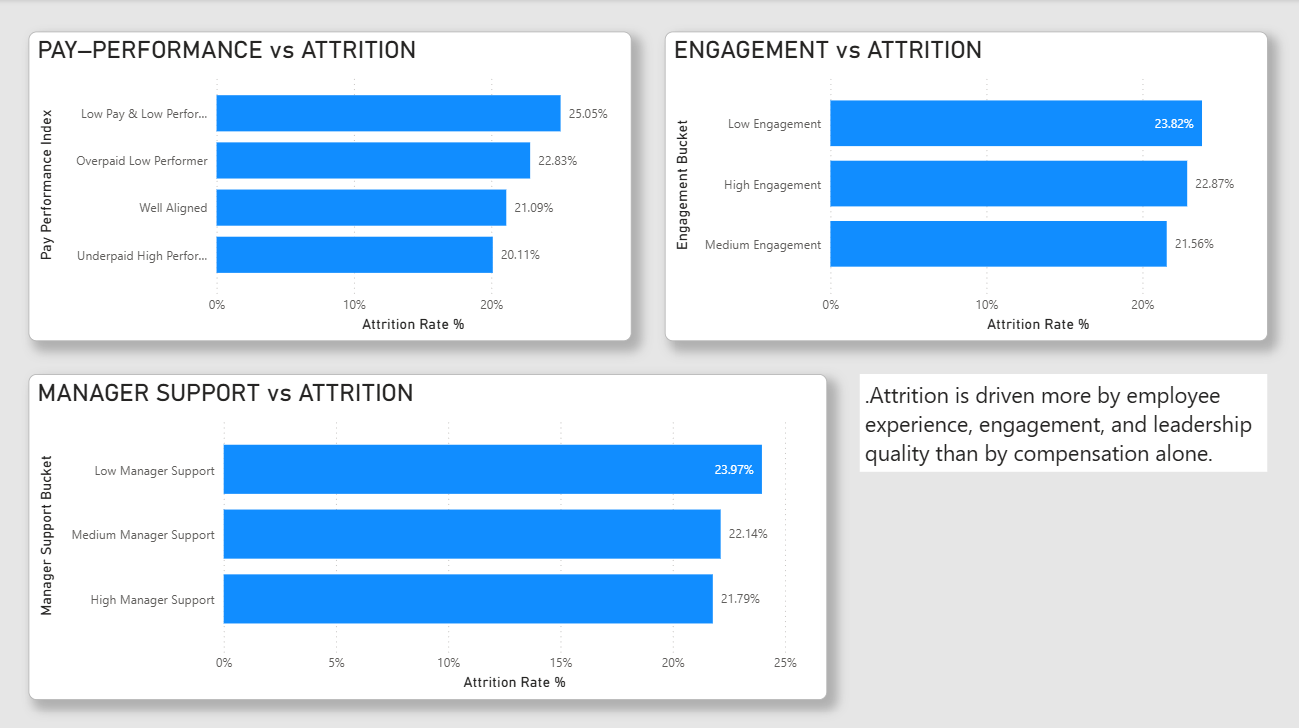

The page's visual inventory and layout, read from the dashboard file:
{"tool":"powerbi","page":{"name":"Why Attrition Happens","canvas":[1280,720],"ordinal":2},"visuals":[{"type":"clusteredBarChart","title":"PAY–PERFORMANCE vs ATTRITION","fields":{"Category":["employee_base.pay_performance_index"],"Y":["employee_base.Overall Attrition Rate %"]},"box":[32,32,592,304],"z":0},{"type":"clusteredBarChart","title":"ENGAGEMENT vs ATTRITION","fields":{"Y":["Sum(attrition_by_engagement.attrition_rate)"],"Category":["attrition_by_engagement.engagement_bucket"]},"box":[656,32,592,304],"z":1000},{"type":"clusteredBarChart","title":"MANAGER SUPPORT vs ATTRITION","fields":{"Y":["Sum(attrition_by_manager_support.attrition_rate)"],"Category":["attrition_by_manager_support.manager_support_bucket"]},"box":[32,368,784,320],"z":2000},{"type":"textbox","box":[848,368,400,96],"z":3000}]}

Visuals, with their boxes in screenshot pixels (x1, y1, x2, y2), scaled from the page's 1280x720 canvas onto the 1299x728 screenshot:
"PAY–PERFORMANCE vs ATTRITION" clusteredBarChart: 32:32:633:340
"ENGAGEMENT vs ATTRITION" clusteredBarChart: 666:32:1267:340
"MANAGER SUPPORT vs ATTRITION" clusteredBarChart: 32:372:828:696
textbox: 861:372:1267:469
